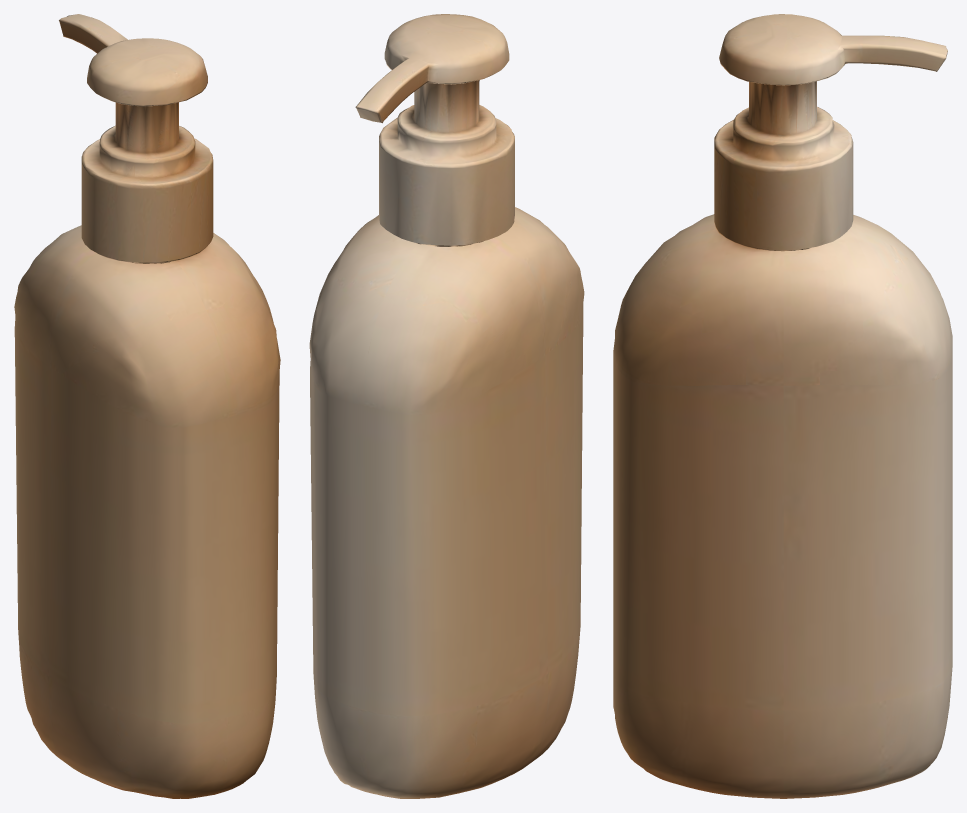
File: pump.glb
3 renders of one model, left to right at view 1: azimuth 30°, elevation 25°; view 2: azimuth 150°, elevation 25°; view 3: azimuth 270°, elevation 25°, orthographic. The views are drawn at different scales.
Parts seen in each view (by area): view 1: tripo_node_7e5f03ed-7218-4496-9a2e-e518f0fe9ced; view 2: tripo_node_7e5f03ed-7218-4496-9a2e-e518f0fe9ced; view 3: tripo_node_7e5f03ed-7218-4496-9a2e-e518f0fe9ced.
Part boxes in pixels (x1,y1,x2,y2): tripo_node_7e5f03ed-7218-4496-9a2e-e518f0fe9ced: (14,14,280,798); tripo_node_7e5f03ed-7218-4496-9a2e-e518f0fe9ced: (309,14,584,798); tripo_node_7e5f03ed-7218-4496-9a2e-e518f0fe9ced: (613,14,952,798).
Size of the model in its own units: 0.2949 by 0.998 by 0.4199.
1 material, 1 textured.
